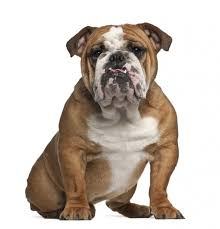Bulldog: (36, 11, 196, 221)
